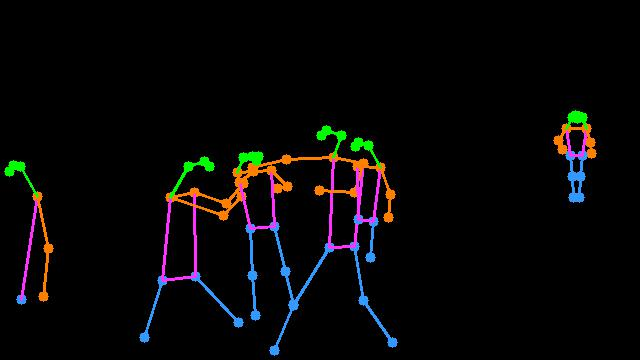normal: (540, 97, 605, 217)
